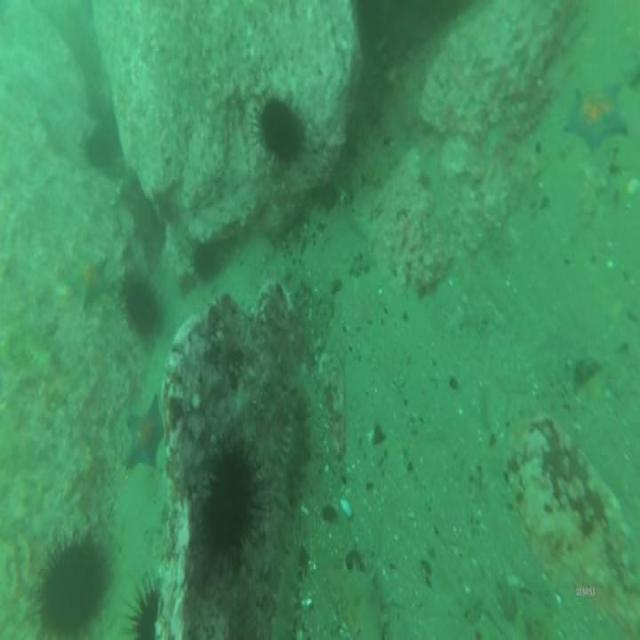echinus: (197, 430, 267, 577), (30, 523, 114, 640), (250, 89, 308, 172), (118, 259, 164, 345), (80, 111, 122, 172), (122, 577, 161, 640), (192, 239, 223, 281)
holothurian: (323, 558, 391, 640), (272, 392, 310, 518), (0, 318, 64, 386), (498, 73, 556, 142), (270, 532, 304, 640)
starfish: (564, 79, 631, 160), (121, 390, 166, 476), (64, 248, 114, 315)
